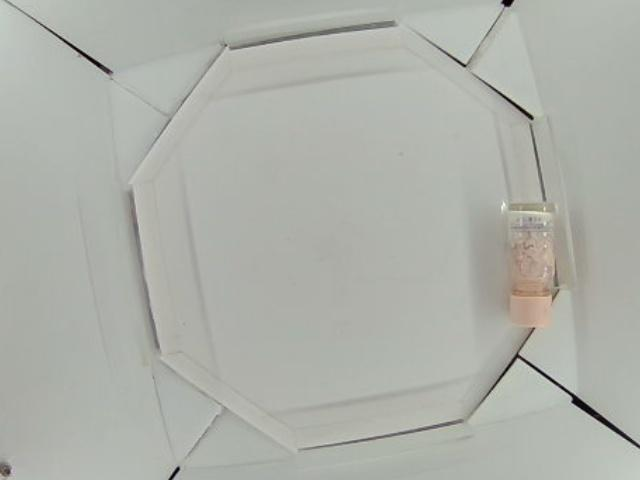Bottle: (506, 200, 558, 329)
